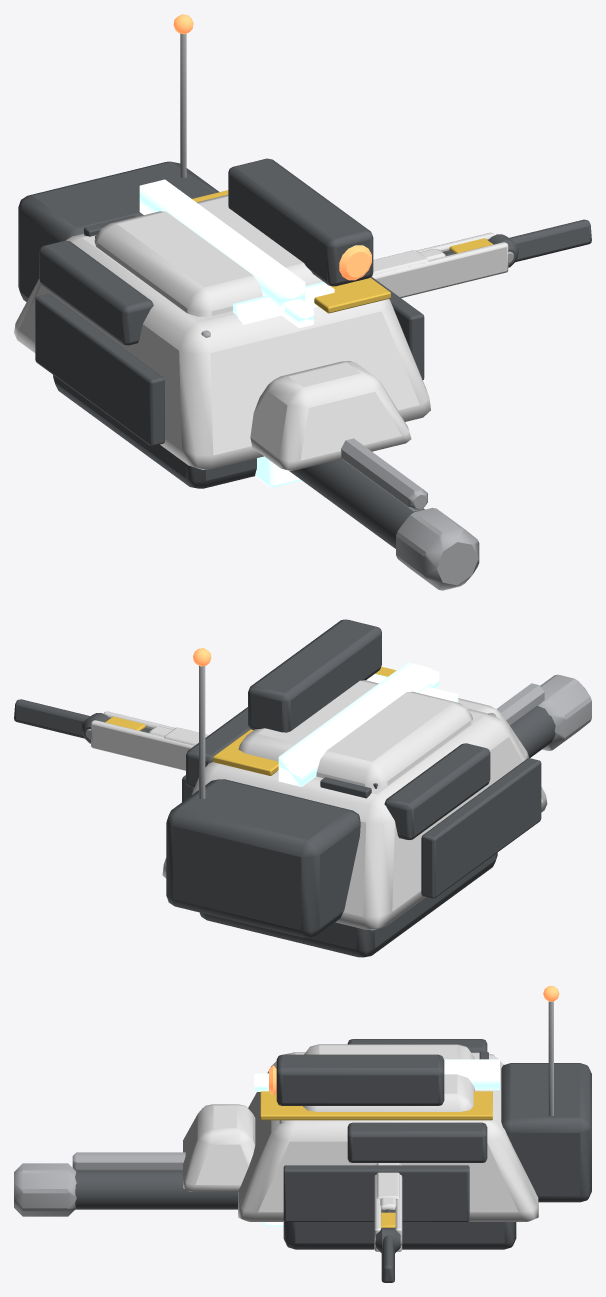
File: rifle.glb
The picture shows the model from 3 angles, top to bottom: view 1: azimuth 30°, elevation 25°; view 2: azimuth 150°, elevation 25°; view 3: azimuth 270°, elevation 25°; orthographic projection. The views are drawn at different scales.
Visible parts, largest first — view 1: Hull, Turret, Barrel, LegUpper, LegLower; view 2: Hull, Turret, Barrel, LegUpper, LegLower; view 3: Hull, Turret, Barrel, LegUpper, LegLower.
Part boxes in pixels (left/top/right/bottom): Hull: left=14, top=14, right=430, bottom=488; Turret: left=94, top=158, right=373, bottom=324; Barrel: left=255, top=438, right=479, bottom=590; LegUpper: left=371, top=232, right=518, bottom=298; LegLower: left=419, top=219, right=591, bottom=261; Hull: left=162, top=648, right=547, bottom=957; Turret: left=238, top=619, right=472, bottom=788; Barrel: left=497, top=674, right=591, bottom=758; LegUpper: left=81, top=711, right=208, bottom=770; LegLower: left=14, top=699, right=172, bottom=738; Hull: left=183, top=986, right=591, bottom=1249; Turret: left=269, top=1044, right=474, bottom=1111; Barrel: left=14, top=1152, right=283, bottom=1226; LegUpper: left=374, top=1163, right=402, bottom=1252; LegLower: left=380, top=1197, right=396, bottom=1282.
Bounding box in the file's own units: 0.797 × 0.484 × 0.9933.
